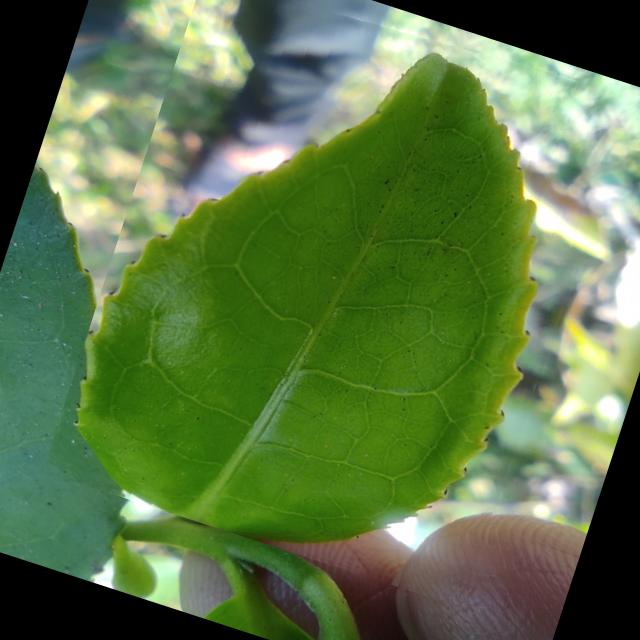Category C 4-7 days: (41, 0, 634, 610)
